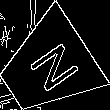N_SW: (16, 37, 78, 98)
